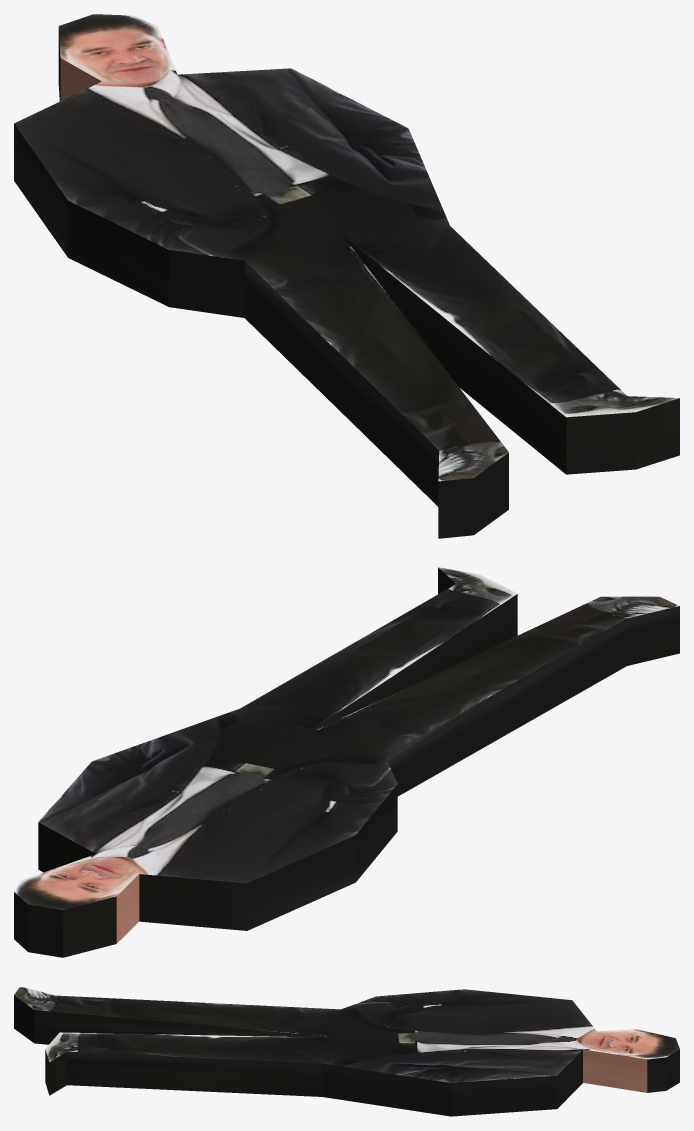
The model's file is businessman.glb.
3 renders of one model, top to bottom at view 1: azimuth 30°, elevation 25°; view 2: azimuth 150°, elevation 25°; view 3: azimuth 270°, elevation 25°, orthographic. The views are drawn at different scales.
Parts seen in each view (by area): view 1: Businessman; view 2: Businessman; view 3: Businessman.
Part boxes in pixels (<box>): Businessman: <box>14,14,679,538</box>; Businessman: <box>14,567,679,957</box>; Businessman: <box>14,986,679,1116</box>.
Size of the model in its own units: 1.53 by 0.2473 by 4.46.
1 material, 1 textured.
